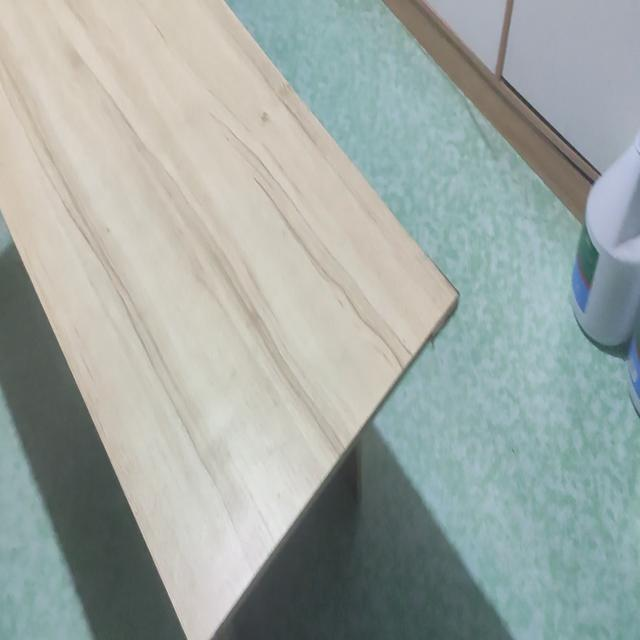table: (0, 0, 462, 640)
